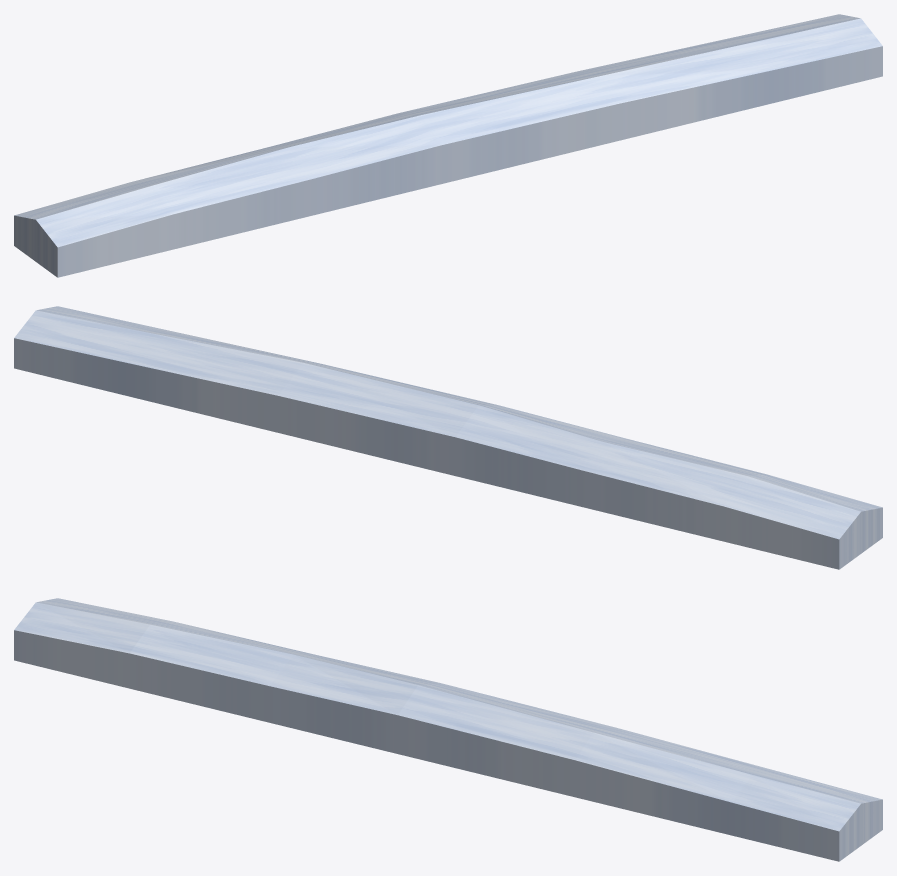
Rendered from snow_rail_top.glb.
3 views of the same model, one above another, from view 1: azimuth 30°, elevation 25°; view 2: azimuth 150°, elevation 25°; view 3: azimuth 330°, elevation 25° (orthographic).
Parts seen in each view (by area): view 1: winter_snow_rail_top; view 2: winter_snow_rail_top; view 3: winter_snow_rail_top.
Boxes of the visible parts, left/top/right/bottom form: winter_snow_rail_top: left=14, top=14, right=882, bottom=277; winter_snow_rail_top: left=14, top=306, right=882, bottom=569; winter_snow_rail_top: left=14, top=598, right=882, bottom=861.
Bounding box in the file's own units: 1.2 × 0.075 × 0.11.
1 material, 1 textured.
